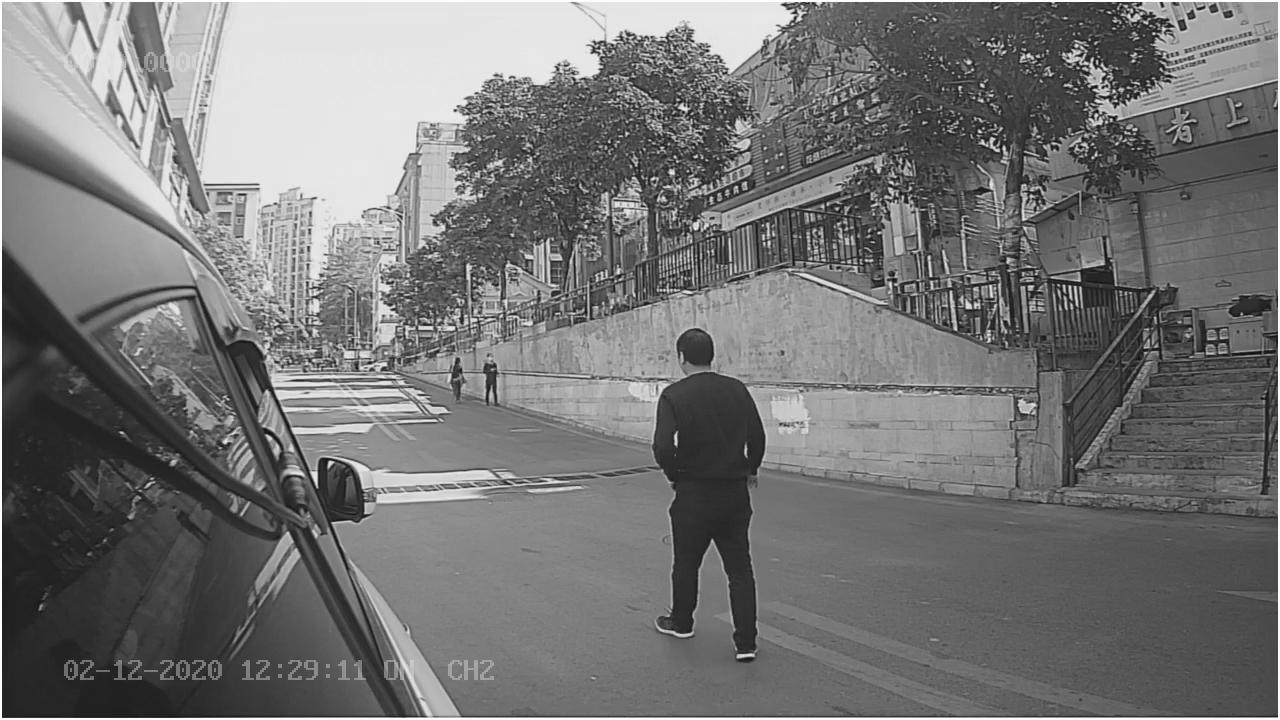person: (642, 322, 772, 662)
